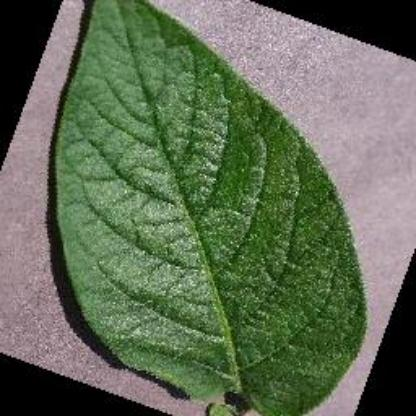Healthy-plant: (41, 0, 370, 406)
